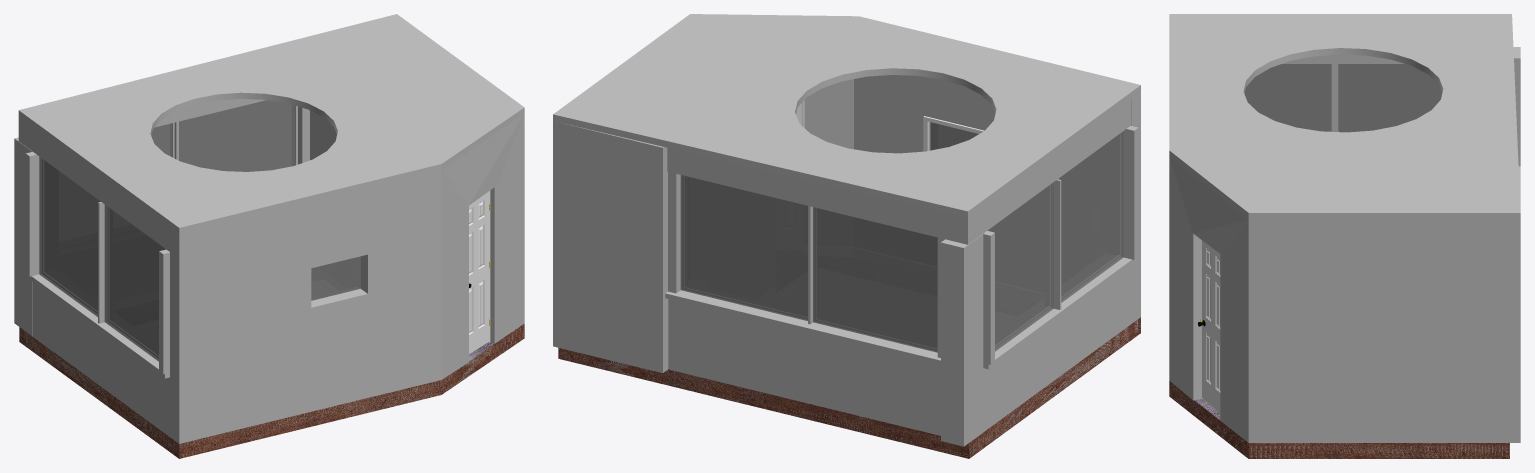
File: LaboratoryGallery.dae
3 renders of one model, left to right at view 1: azimuth 30°, elevation 25°; view 2: azimuth 150°, elevation 25°; view 3: azimuth 270°, elevation 25°, orthographic. The views are drawn at different scales.
Parts seen in each view (by area): view 1: group_4 (×2), group_40 (×2), group_38, group_31, group_16, group_28, group_17, group_27, group_22, group_26, group_39, group_3 (+9 smaller); view 2: group_40 (×2), group_4 (×2), group_31 (×2), group_17, group_8, group_16, group_11, group_39, group_38, group_3, group_27, group_28 (+10 smaller); view 3: group_4, group_40 (×2), group_22, group_28, group_38, group_26, group_27, group_39, group_3, Stile_-_Lock_1.375in_x_78in_x_3.5in__Single_Bore_.
Part boxes in pixels (<box>): group_4 (×2): <box>170,114,524,443</box>; group_40 (×2): <box>18,14,524,233</box>; group_38: <box>19,323,524,458</box>; group_31: <box>32,282,169,436</box>; group_16: <box>179,100,295,171</box>; group_28: <box>39,156,100,316</box>; group_17: <box>179,101,294,171</box>; group_27: <box>104,204,165,361</box>; group_22: <box>45,161,99,310</box>; group_26: <box>110,209,164,354</box>; group_39: <box>18,99,266,251</box>; group_3: <box>14,137,32,336</box>; group_40 (×2): <box>553,14,1140,217</box>; group_4 (×2): <box>553,75,1140,372</box>; group_31 (×2): <box>668,265,1131,435</box>; group_17: <box>680,175,807,320</box>; group_8: <box>813,207,937,352</box>; group_16: <box>685,176,807,316</box>; group_11: <box>817,209,936,347</box>; group_39: <box>667,99,1130,244</box>; group_38: <box>558,317,1140,458</box>; group_3: <box>941,234,983,446</box>; group_27: <box>1058,131,1123,302</box>; group_28: <box>987,182,1053,351</box>; group_4: <box>1169,157,1520,442</box>; group_40 (×2): <box>1169,14,1520,219</box>; group_22: <box>1338,64,1442,132</box>; group_28: <box>1339,64,1441,131</box>; group_38: <box>1169,381,1509,458</box>; group_26: <box>1244,64,1331,131</box>; group_27: <box>1245,64,1330,130</box>; group_39: <box>1282,54,1404,63</box>; group_3: <box>1513,47,1520,166</box>; Stile_-_Lock_1.375in_x_78in_x_3.5in__Single_Bore_: <box>1202,240,1205,400</box>.
Size of the model in its own units: 207 by 152 by 117.
